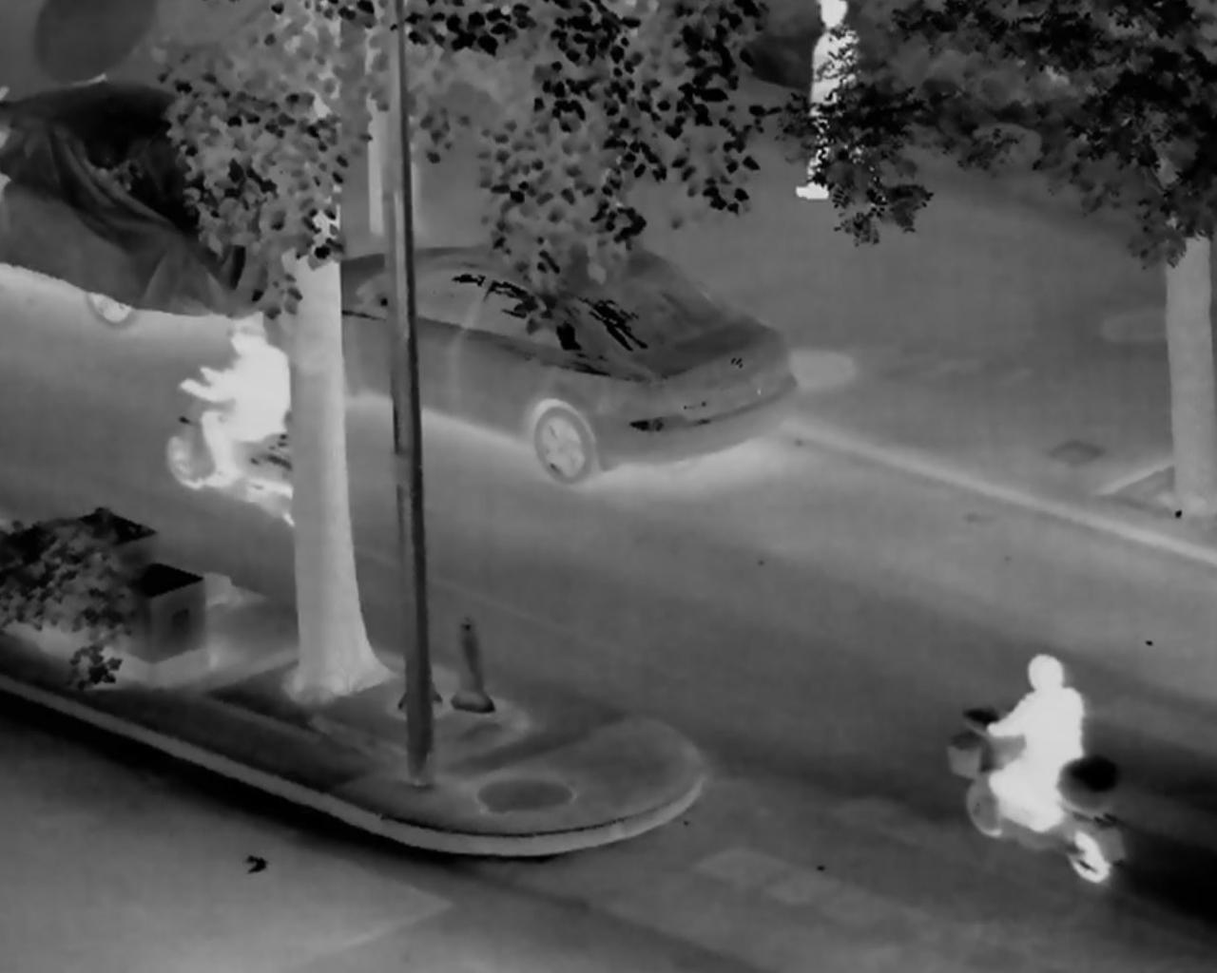person: (181, 319, 290, 486), (985, 653, 1083, 830)
